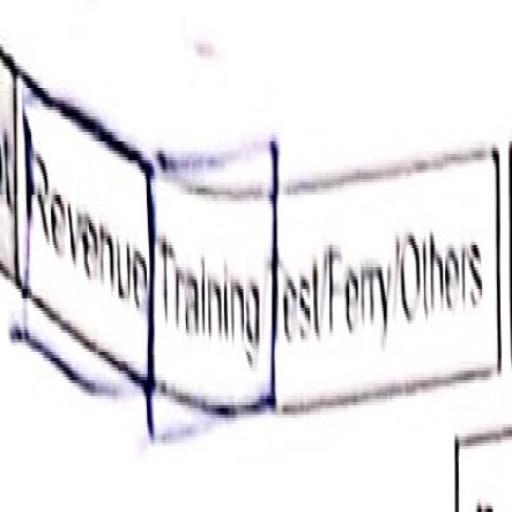check: (12, 43, 146, 432), (151, 104, 276, 456)
